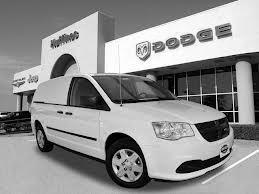car: (31, 74, 235, 192)
